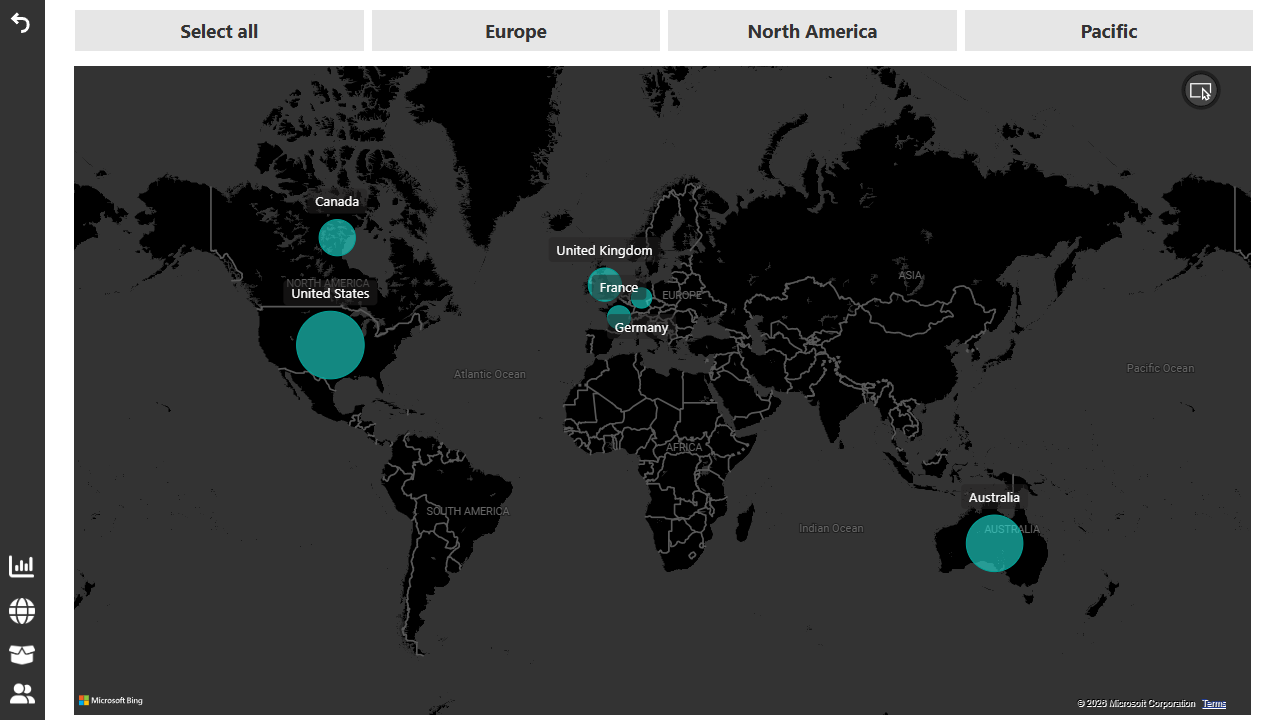

Layout of this report page (visuals, bound fields, positions):
{"tool":"powerbi","page":{"name":"Map","canvas":[1280,720],"ordinal":1},"visuals":[{"type":"shape","title":"Left Nav Background","box":[0,0,45,720],"z":0},{"type":"actionButton","box":[5.2,548,33.2,35.9],"z":0,"group":"g1"},{"type":"map","fields":{"Category":["Territory Lookup.Country"],"Size":["Measures Table.Total Orders"]},"box":[69.1,61.3,1186.6,658.5],"z":1000},{"type":"actionButton","box":[5.2,591.7,33.6,38.5],"z":1000,"group":"g1"},{"type":"slicer","fields":{"Values":["Territory Lookup.Continent"]},"box":[45.7,0,1234.3,61.3],"z":2000},{"type":"actionButton","box":[5.2,634.3,33.6,40.6],"z":2000,"group":"g1"},{"type":"actionButton","box":[5.8,7.8,32.1,29.2],"z":3000},{"type":"actionButton","box":[6.2,677,33.6,33.3],"z":3000,"group":"g1"},{"type":"group","id":"g1","title":"Navigation Buttons","box":[5.2,548,34.6,162.3],"z":4000}]}

Visuals, with their boxes in screenshot pixels (x1, y1, x2, y2):
"Left Nav Background" shape: left=3, top=3, right=48, bottom=713
actionButton: left=8, top=544, right=41, bottom=579
map - Territory Lookup.Country x Measures Table.Total Orders: left=71, top=64, right=1242, bottom=713
actionButton: left=8, top=587, right=42, bottom=625
slicer - Territory Lookup.Continent: left=48, top=3, right=1266, bottom=64
actionButton: left=8, top=629, right=42, bottom=669
actionButton: left=9, top=11, right=41, bottom=40
actionButton: left=9, top=671, right=43, bottom=704
"Navigation Buttons" group: left=8, top=544, right=43, bottom=704
